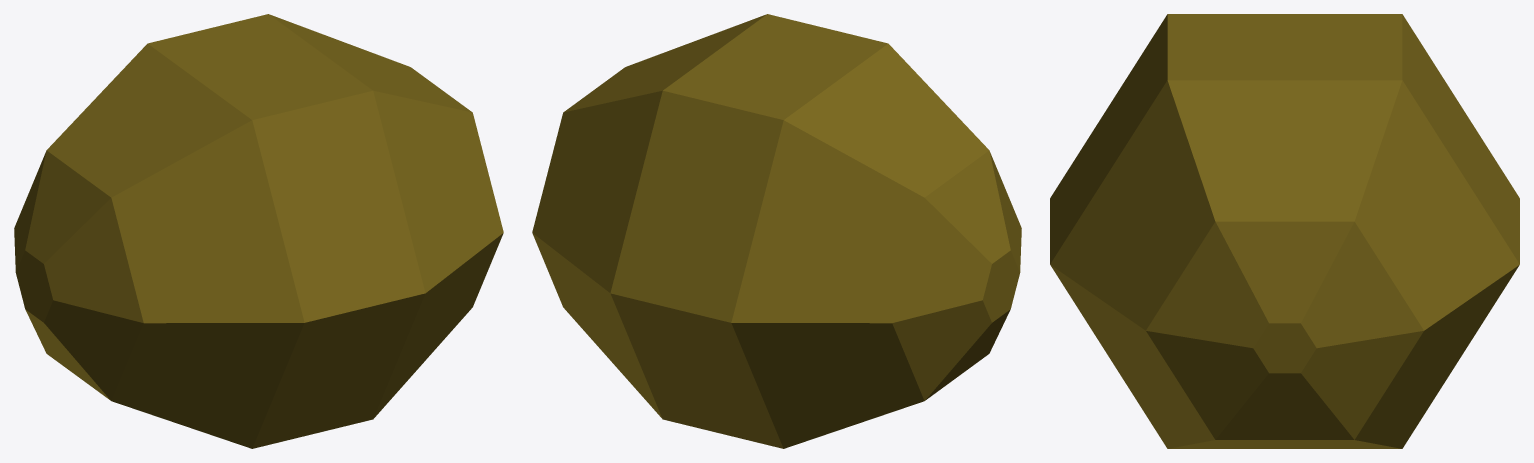
The model's file is Payaya.fbx.
The picture shows the model from 3 angles, left to right: view 1: azimuth 30°, elevation 25°; view 2: azimuth 150°, elevation 25°; view 3: azimuth 270°, elevation 25°; orthographic projection. The views are drawn at different scales.
Visible parts, largest first — view 1: Papaya; view 2: Papaya; view 3: Papaya.
Part boxes in pixels (<box>): Papaya: <box>14,14,503,448</box>; Papaya: <box>532,14,1021,448</box>; Papaya: <box>1050,14,1519,448</box>.
Bounding box in the file's own units: 242 × 173 × 200.
